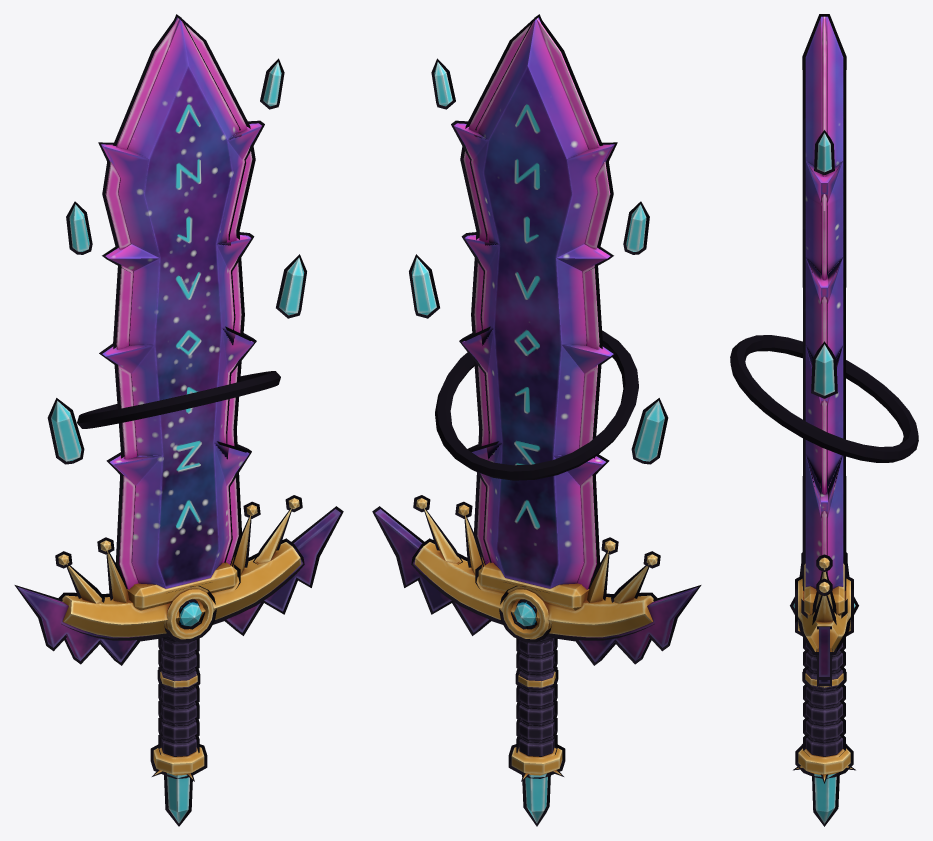
File: VoidKingSword.fbx
3 views of the same model, side by side, from view 1: azimuth 30°, elevation 25°; view 2: azimuth 150°, elevation 25°; view 3: azimuth 270°, elevation 25° (orthographic).
Parts seen in each view (by area): view 1: VoidKingSword, VoidKingSwordOutline, VoidKingSwordVoidGlow, VoidKingSwordVoidCyan; view 2: VoidKingSword, VoidKingSwordOutline, VoidKingSwordVoidGlow, VoidKingSwordVoidCyan; view 3: VoidKingSword, VoidKingSwordOutline, VoidKingSwordVoidCyan, VoidKingSwordVoidGlow.
Part boxes in pixels (x1,y1,x2,y2): VoidKingSword: (17,17,340,778); VoidKingSwordOutline: (14,14,343,826); VoidKingSwordVoidGlow: (105,18,252,589); VoidKingSwordVoidCyan: (51,62,304,823); VoidKingSword: (375,17,698,778); VoidKingSwordOutline: (372,14,701,826); VoidKingSwordVoidGlow: (463,18,610,589); VoidKingSwordVoidCyan: (411,62,664,823); VoidKingSword: (796,16,852,781); VoidKingSwordOutline: (730,14,918,826); VoidKingSwordVoidCyan: (793,133,855,823); VoidKingSwordVoidGlow: (822,16,826,571).
Size of the model in its own units: 239 by 574 by 121.
Materials: 2 (1 with a texture image).
